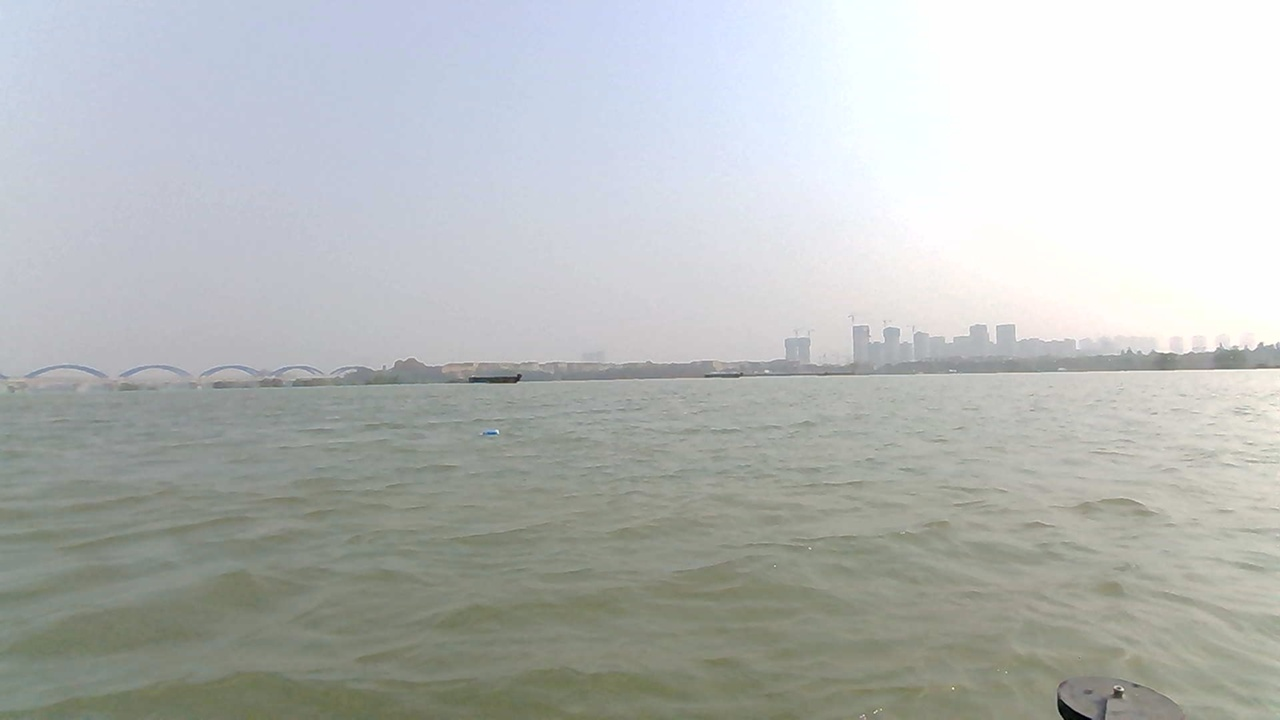bottle: (475, 425, 505, 440)
